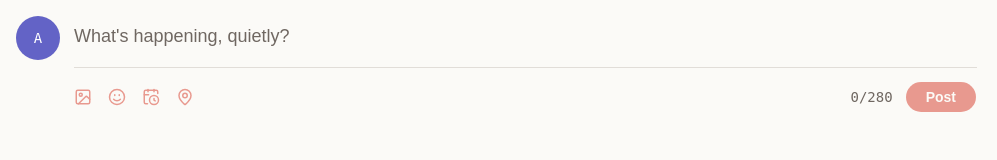
Scenario: Composer › submitting › shows "Too many posts…" on a 429 and keeps the text
This screenshot has width=997, height=160.
Expected: the picture named "@ada" is shown, [16, 16, 60, 60]
Type "Hello flock" into the text box named "Compose a new post" at (526, 38), box [74, 16, 977, 59]
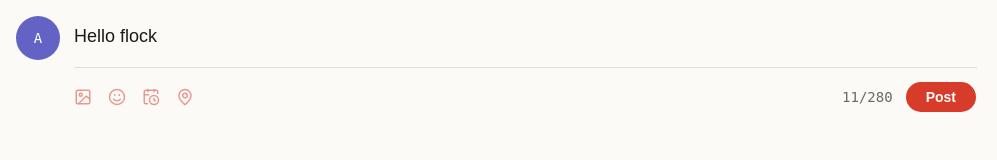
Click the button "Post" at (941, 97), box [905, 81, 977, 113]
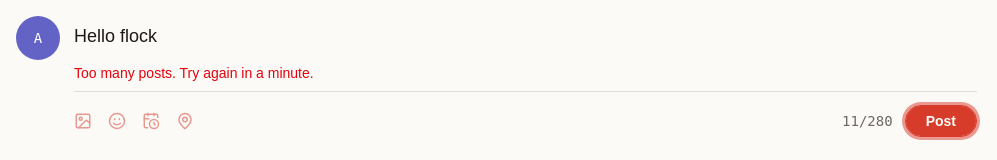
Result: the message reads "Too many posts. Try again in a minute." at [74, 65, 314, 81]
